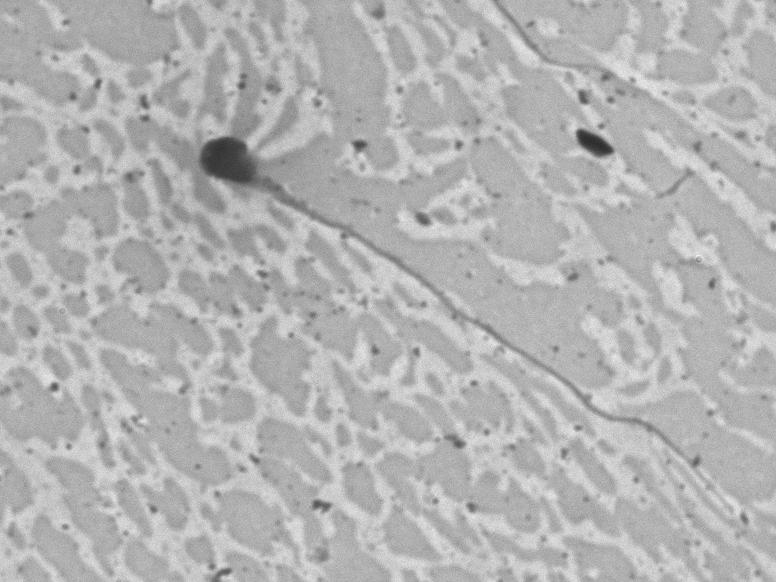Abnormal: (192, 123, 750, 529)
